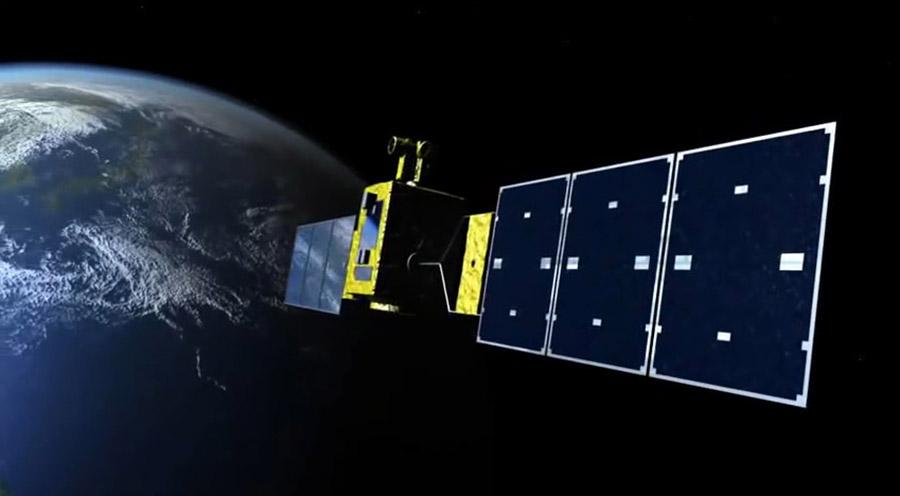antenna: (365, 300, 420, 319)
body: (342, 177, 469, 306)
solar: (474, 118, 840, 410), (280, 213, 360, 317), (357, 198, 386, 253)
